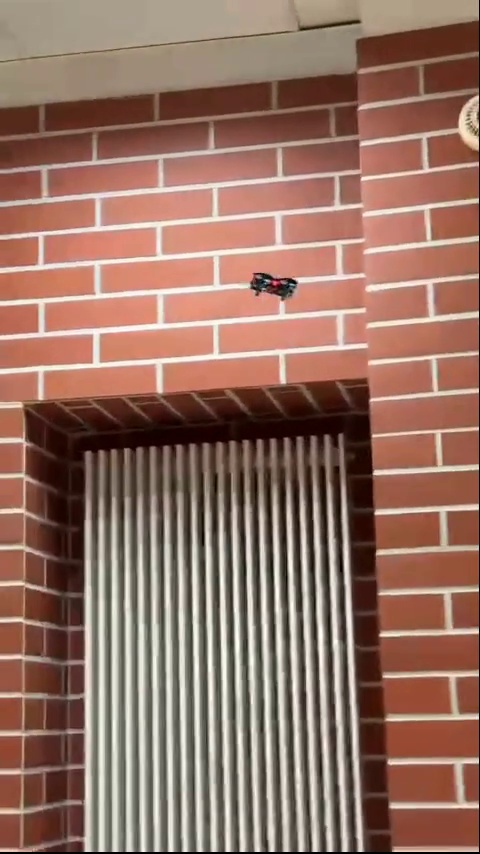drone: (248, 267, 302, 298)
